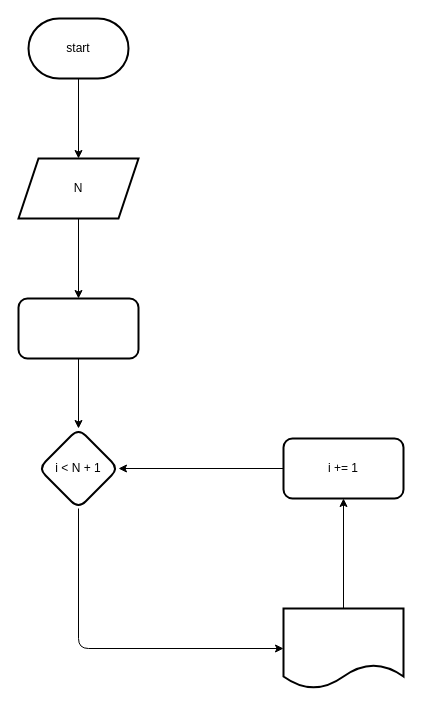
Image size: 421x706. Some labels were removed from this diagram. The shapes that lost their labels are listed below. From the top down, each one's box as (x1, y1, x2, y2) in pixels, then its label:
(17, 297, 139, 359): i = 1
(282, 607, 404, 689): i * *
